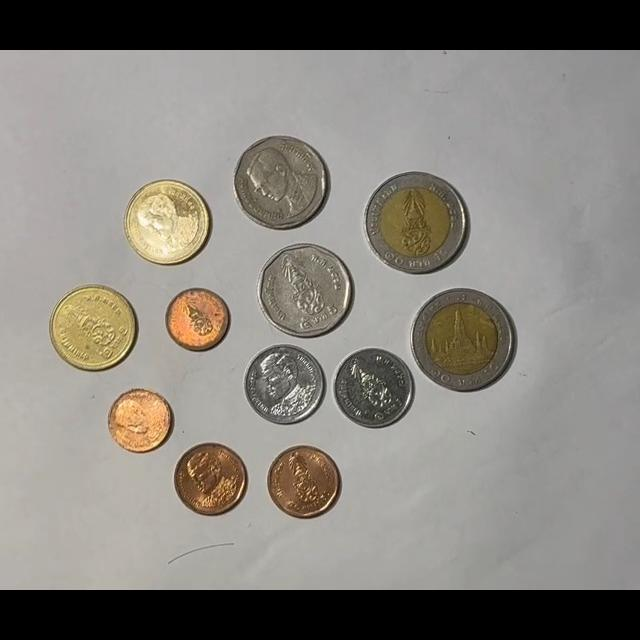1-baht: (332, 348, 415, 429), (243, 343, 325, 424)
10-baht: (410, 288, 515, 392), (363, 172, 468, 275)
2-baht: (49, 284, 137, 372), (123, 179, 210, 267)
25-satang: (108, 388, 174, 454), (165, 287, 230, 352)
5-baht: (258, 243, 354, 339), (233, 135, 330, 230)
50-satang: (173, 442, 248, 516), (267, 445, 341, 518)
